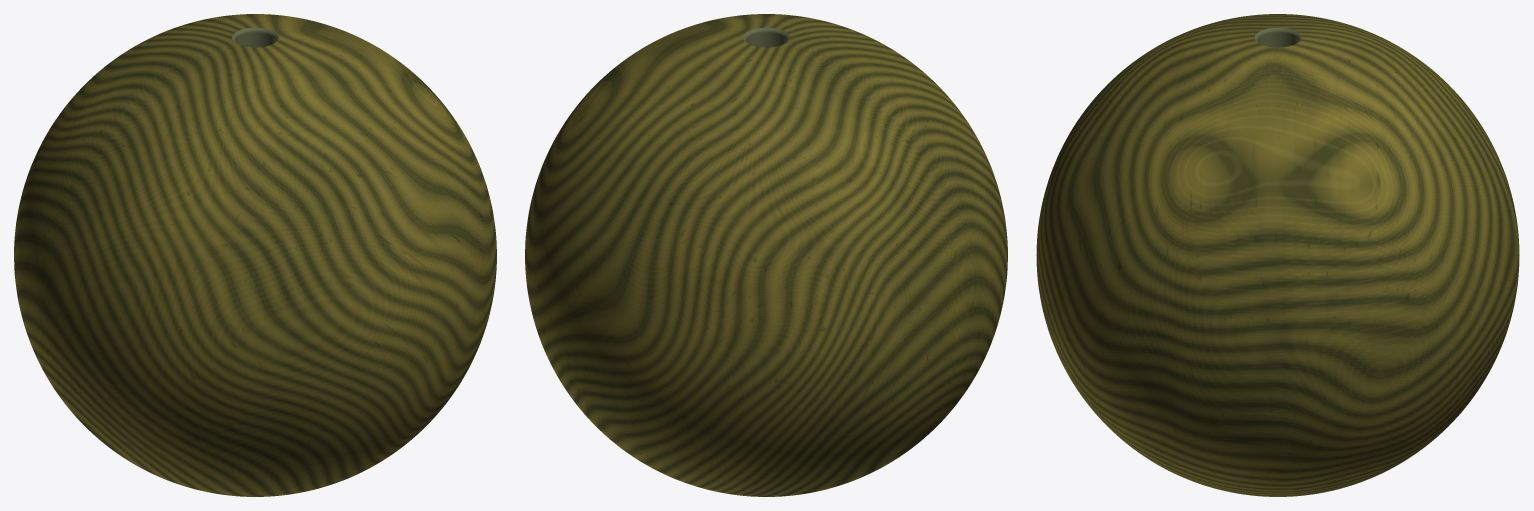
File: wood-buried-nanmu-12mm.glb
3 views of the same model, side by side, from view 1: azimuth 30°, elevation 25°; view 2: azimuth 150°, elevation 25°; view 3: azimuth 270°, elevation 25° (orthographic).
Visible parts, largest first — view 1: buried-nanmu; view 2: buried-nanmu; view 3: buried-nanmu.
Part boxes in pixels (x1,y1,x2,y2): buried-nanmu: (14, 14, 496, 496); buried-nanmu: (525, 14, 1007, 496); buried-nanmu: (1036, 14, 1519, 496).
Size of the model in its own units: 0.012 by 0.0119 by 0.012.
Materials: 2 (1 with a texture image).
